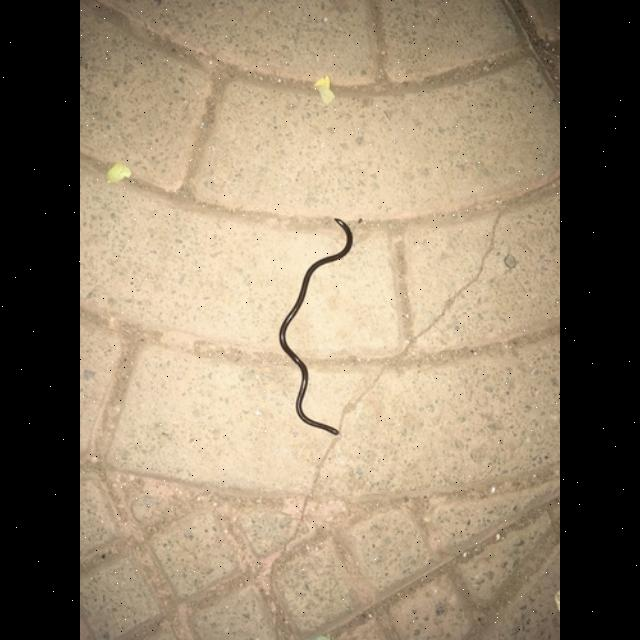snake: (266, 208, 372, 454)
